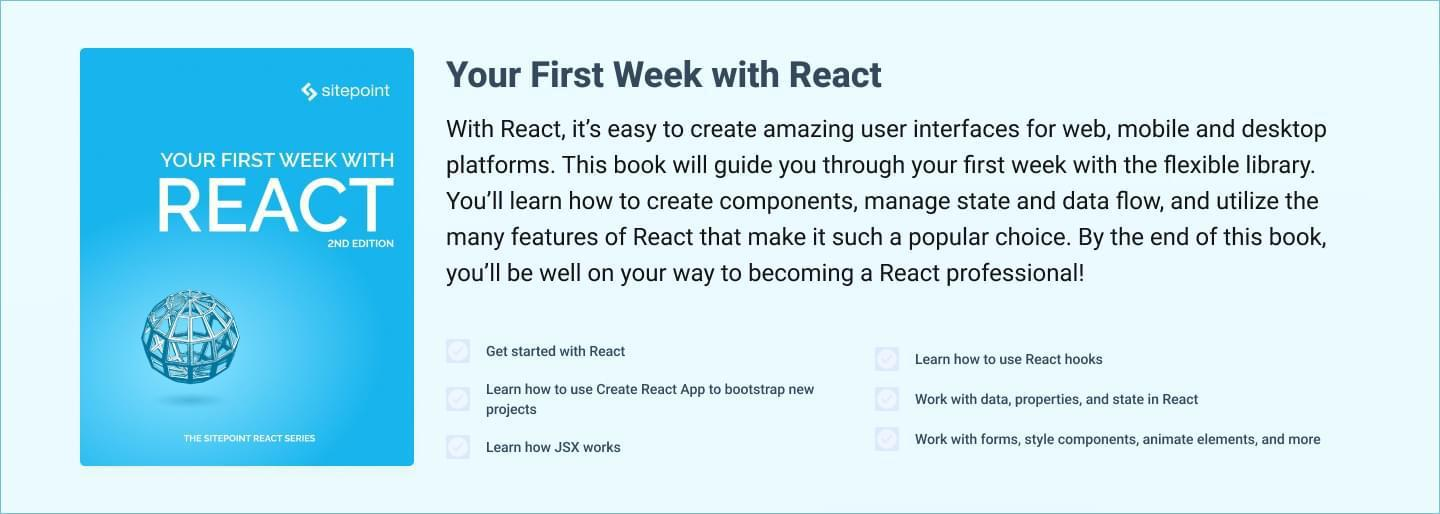checkbox: (875, 427, 903, 459), (874, 387, 901, 415), (445, 386, 472, 413), (446, 436, 474, 462), (446, 339, 473, 365), (876, 347, 900, 372)
label: (483, 382, 822, 422), (917, 429, 1327, 450), (915, 349, 1110, 376), (917, 391, 1206, 408), (483, 341, 636, 361), (485, 439, 628, 458)
